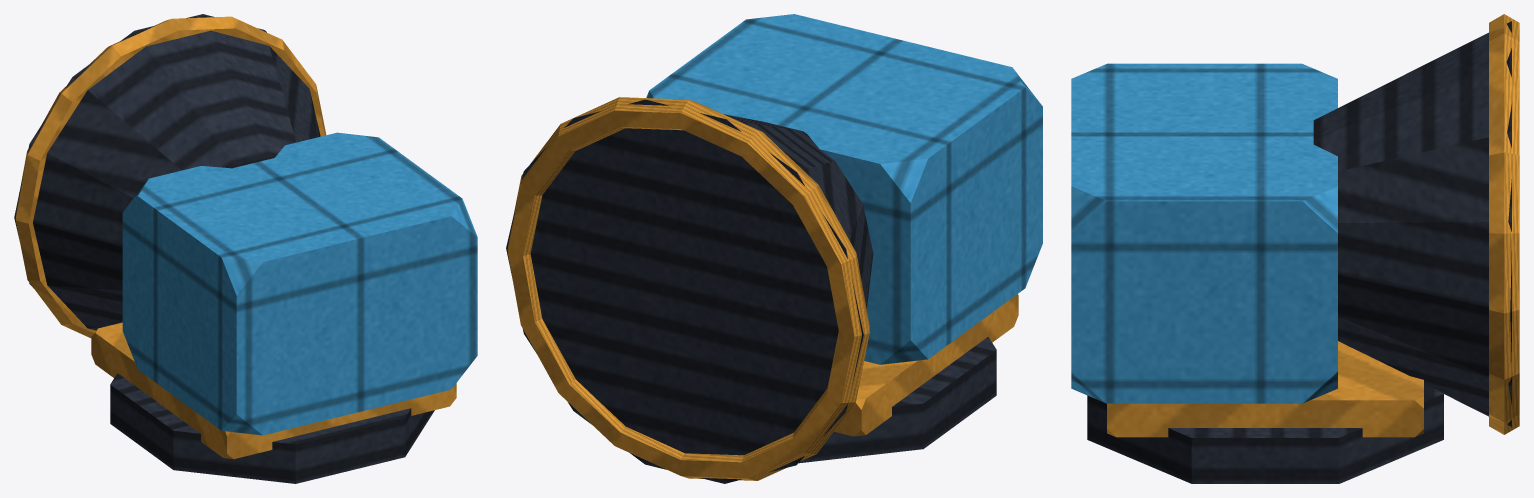
The model's file is eq_vacuum_collector.glb.
3 views of the same model, side by side, from view 1: azimuth 30°, elevation 25°; view 2: azimuth 150°, elevation 25°; view 3: azimuth 270°, elevation 25° (orthographic). The views are drawn at different scales.
Visible parts, largest first — view 1: eq_vacuum_collector; view 2: eq_vacuum_collector; view 3: eq_vacuum_collector.
Part boxes in pixels (x1,y1,x2,y2): eq_vacuum_collector: (14,14,477,483); eq_vacuum_collector: (506,14,1042,483); eq_vacuum_collector: (1071,14,1519,483).
Size of the model in its own units: 1.66 by 1.66 by 1.77.
1 material, 1 textured.
